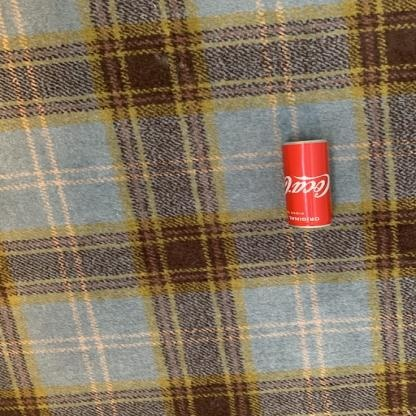trash: (282, 140, 331, 226)
